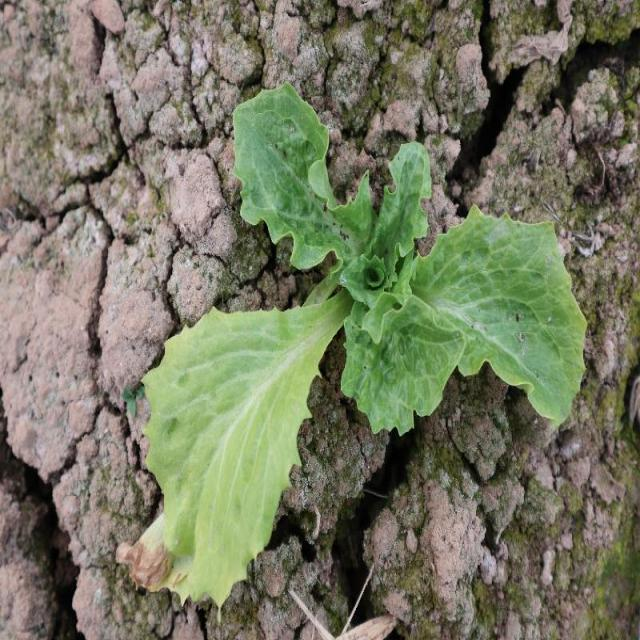crop: (142, 80, 585, 610)
